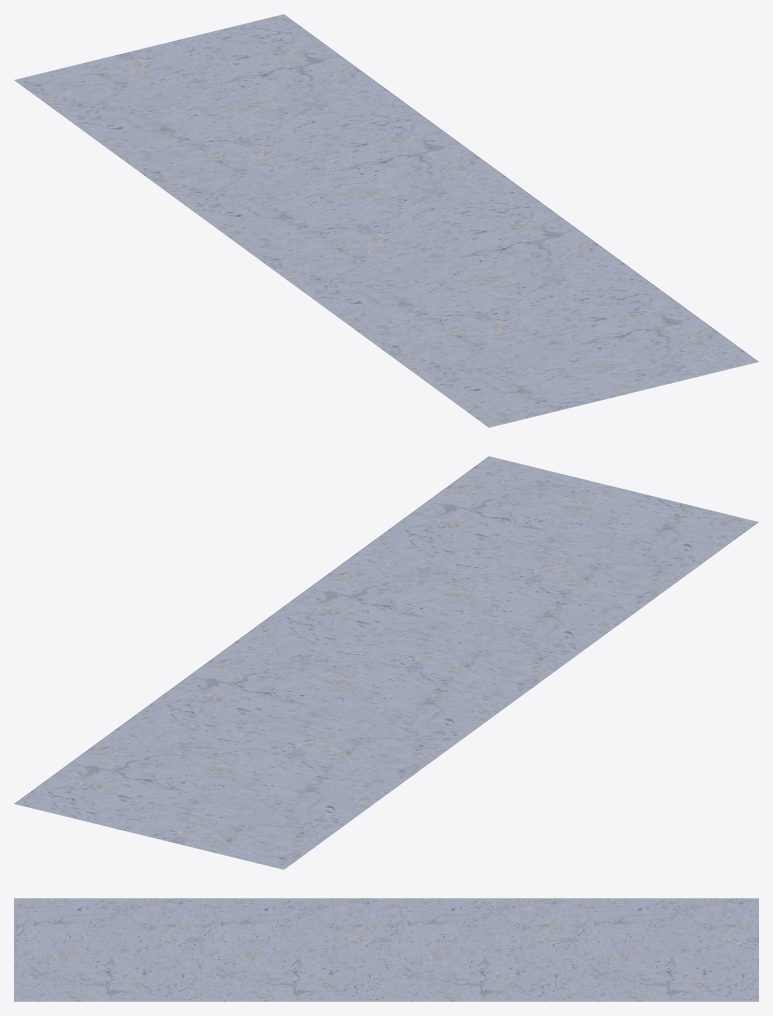
Rendered from floor001.glb.
The picture shows the model from 3 angles, top to bottom: view 1: azimuth 30°, elevation 25°; view 2: azimuth 150°, elevation 25°; view 3: azimuth 270°, elevation 25°; orthographic projection. The views are drawn at different scales.
Visible parts, largest first — view 1: floor001; view 2: floor001; view 3: floor001.
Part boxes in pixels (left/top/right/bottom): floor001: left=14, top=14, right=758, bottom=427; floor001: left=14, top=456, right=758, bottom=869; floor001: left=14, top=898, right=758, bottom=1001.
Bounding box in the file's own units: 7.65 × 0 × 23.31.
Materials: 1 (1 with a texture image).
